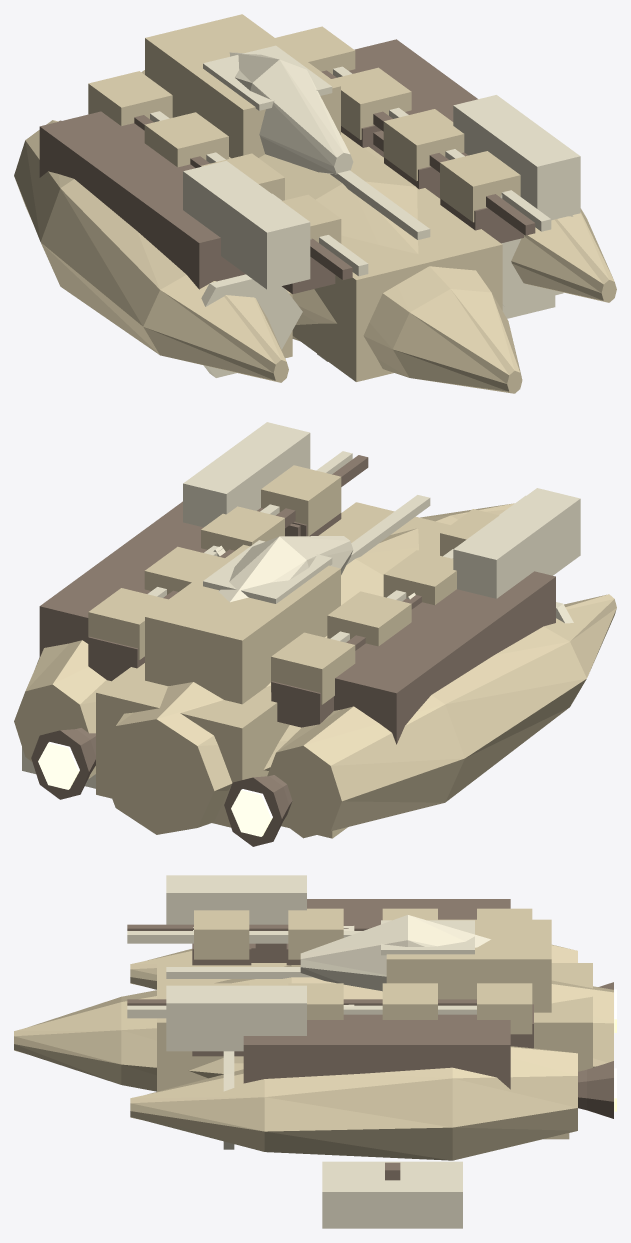
3 renders of one model, top to bottom at view 1: azimuth 30°, elevation 25°; view 2: azimuth 150°, elevation 25°; view 3: azimuth 270°, elevation 25°, orthographic. The views are drawn at different scales.
Size of the model in its own units: 14.66 by 8.31 by 20.47.
